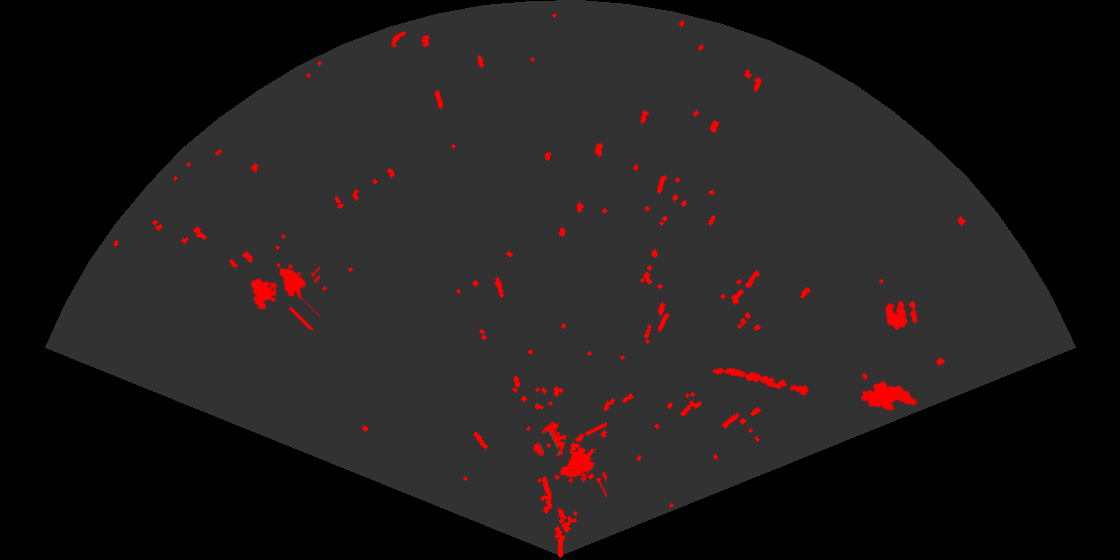AUV: (859, 380, 919, 413)
ball: (884, 299, 919, 331)
cage: (532, 420, 607, 499), (249, 261, 320, 330)
chain: (711, 366, 811, 397)
